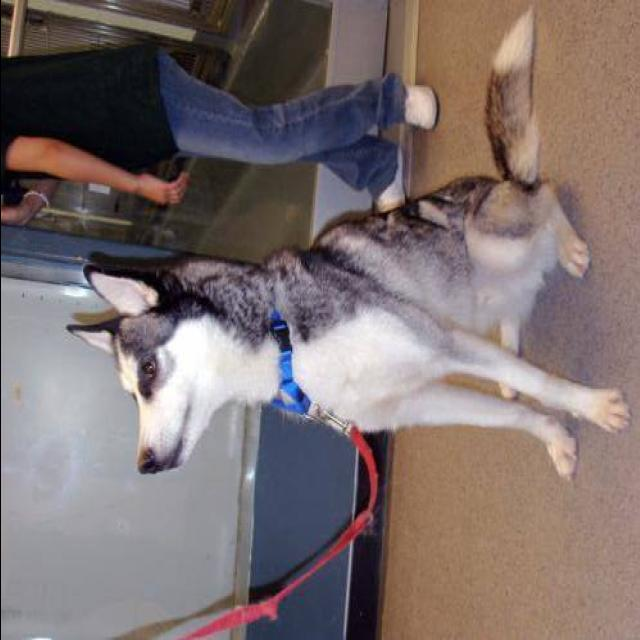dog: (66, 2, 640, 498)
